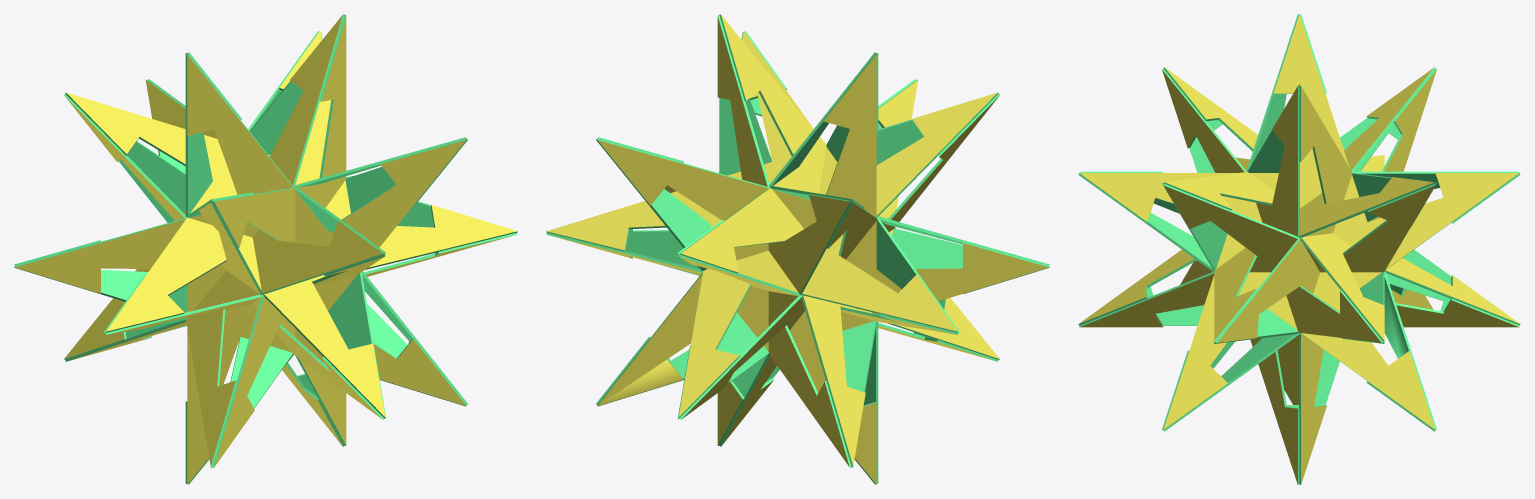
File: GreatStellatedDodecahedronS.glb
3 views of the same model, side by side, from view 1: azimuth 30°, elevation 25°; view 2: azimuth 150°, elevation 25°; view 3: azimuth 270°, elevation 25° (orthographic). The views are drawn at different scales.
Parts seen in each view (by area): view 1: Mesh_0002_1, Mesh_0002; view 2: Mesh_0002_1, Mesh_0002; view 3: Mesh_0002_1, Mesh_0002.
Boxes of the visible parts, left/top/right/bottom form: Mesh_0002_1: left=15, top=15, right=516, bottom=484; Mesh_0002: left=14, top=14, right=517, bottom=484; Mesh_0002_1: left=547, top=15, right=1048, bottom=484; Mesh_0002: left=546, top=14, right=1049, bottom=484; Mesh_0002_1: left=1079, top=14, right=1519, bottom=484; Mesh_0002: left=1078, top=14, right=1520, bottom=484.
Bounding box in the file's own units: 8.52 × 8.52 × 8.52.
